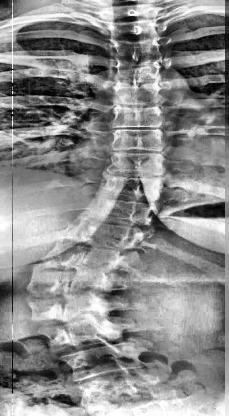Vertebrae: (59, 342, 143, 380), (40, 315, 119, 351), (26, 291, 116, 321), (30, 266, 126, 294), (47, 242, 124, 272), (84, 197, 160, 223), (65, 222, 141, 246), (100, 173, 168, 199), (108, 152, 168, 178), (110, 126, 170, 150), (113, 104, 167, 130), (113, 82, 163, 106), (112, 38, 162, 60), (110, 61, 164, 81), (108, 20, 160, 38), (105, 4, 159, 21)
